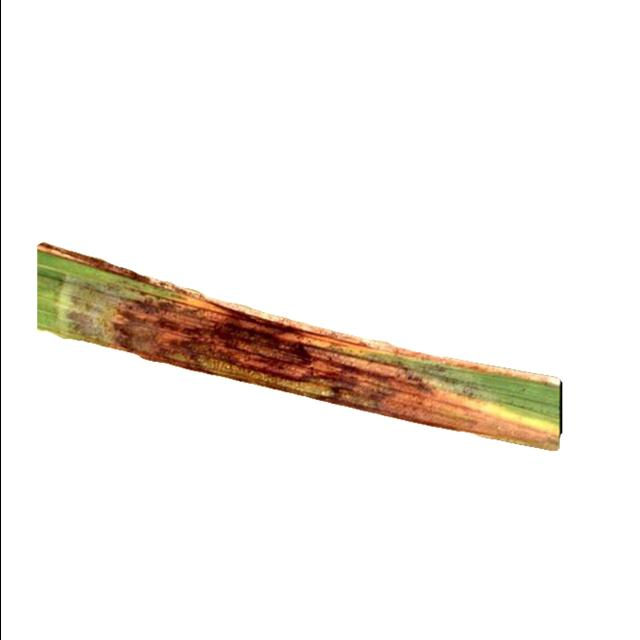Leaf scald: (27, 176, 640, 534)
